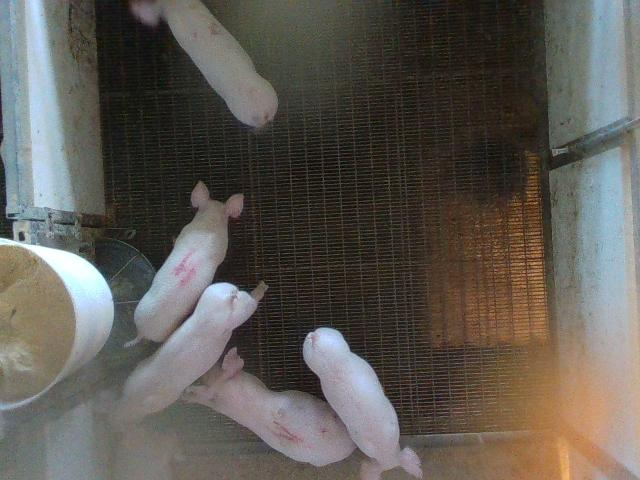pig-4: (128, 181, 242, 344)
